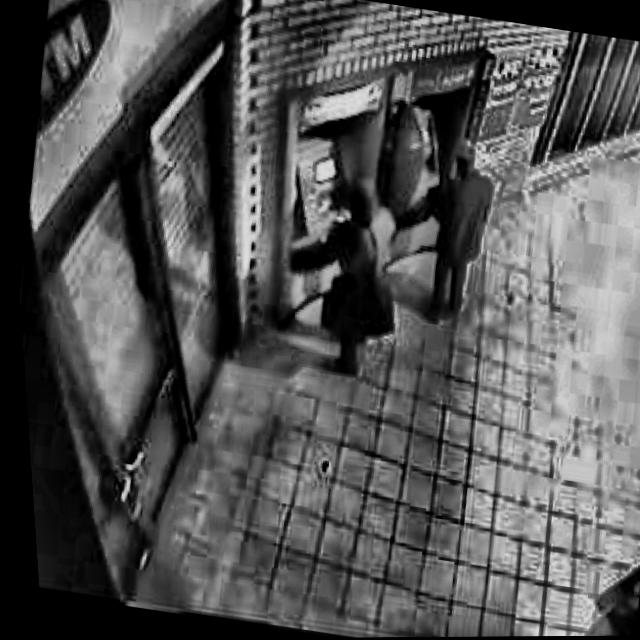burglary: (256, 70, 519, 399)
